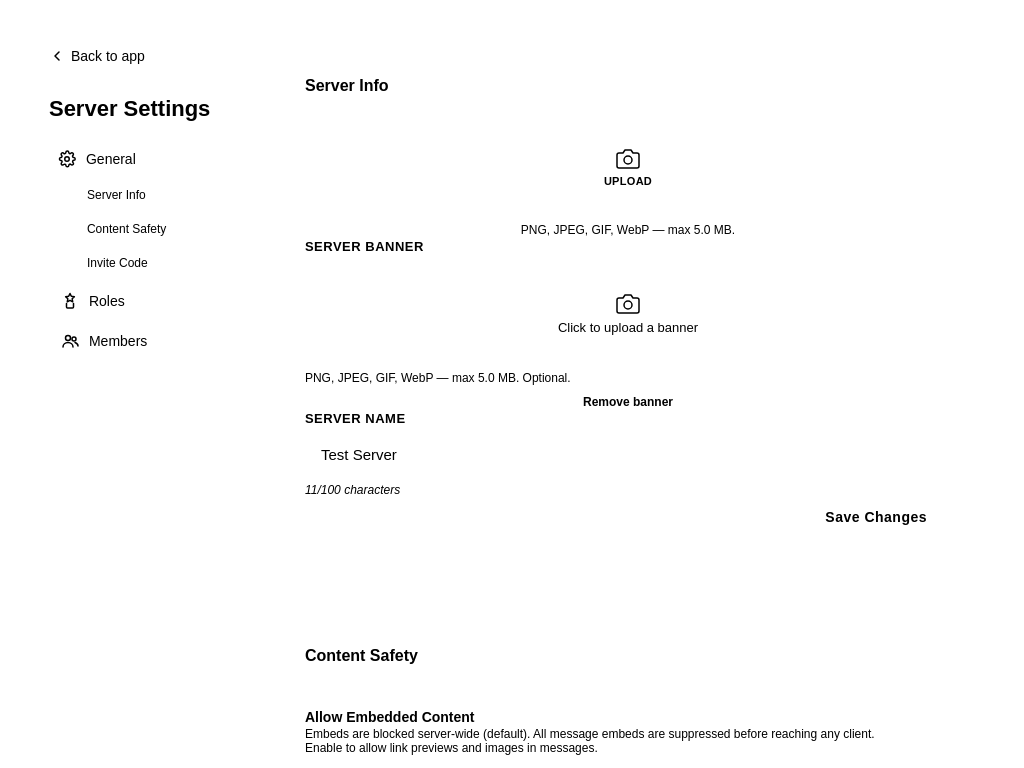
Test case: ServerSettingsPage › does not expose a server banner path as an anonymous image source
The image size is (1024, 768).
Click the button "Remove banner": (628, 402) top-left (305, 393), bottom-right (951, 411)
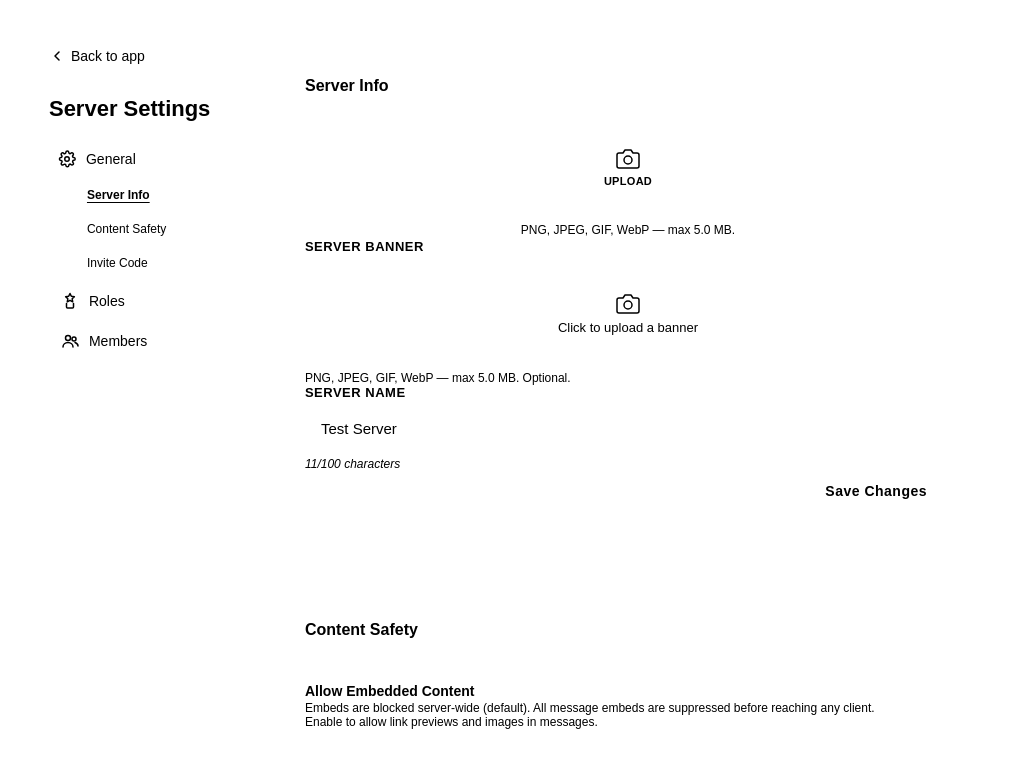
Result: the button "Remove banner" is gone
